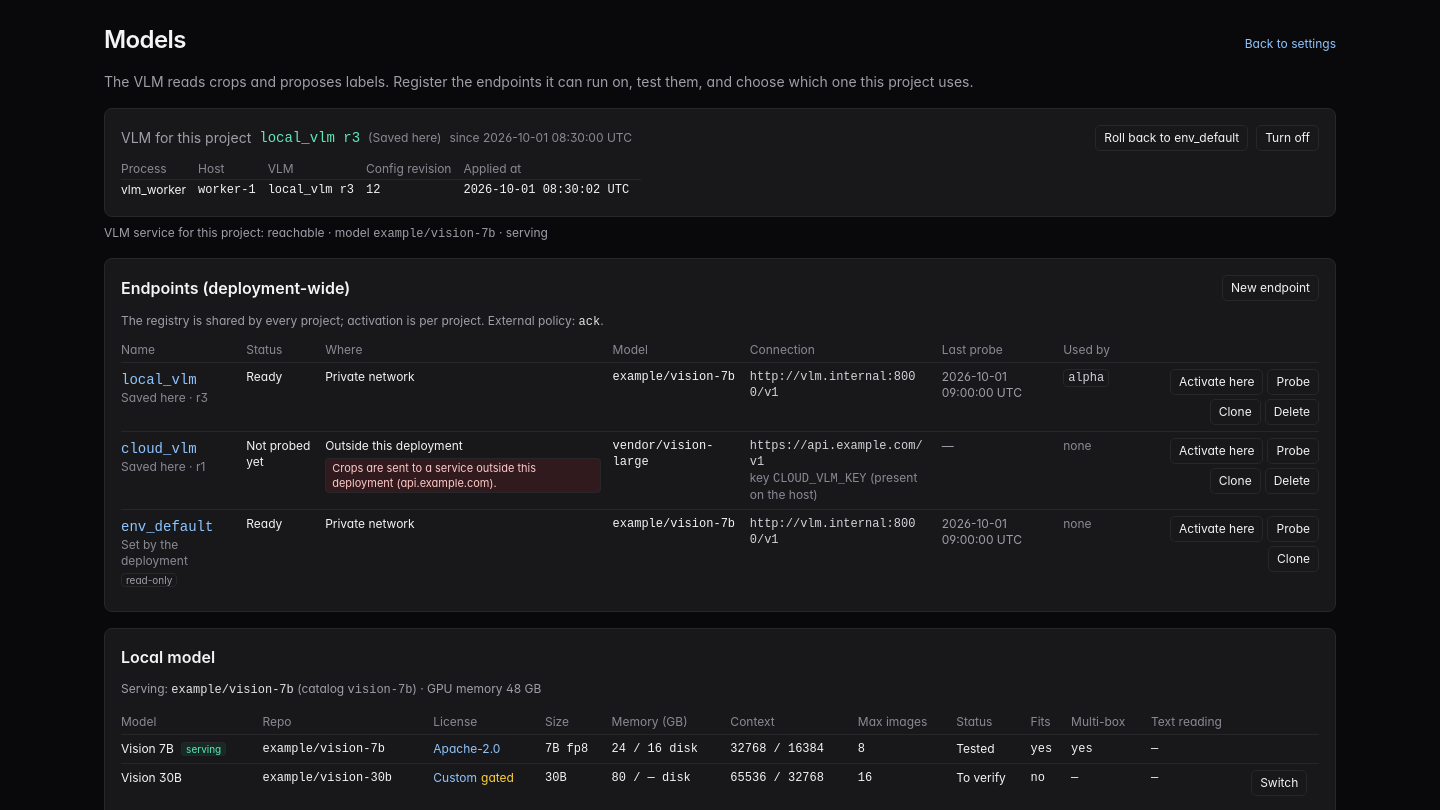
Test: /settings/models › Delete shows the served in_use message and project slugs
Click the button with test id "vlm-delete" in the row of "Saved here · r3".
click(1292, 412)  # box [1265,399,1319,425]
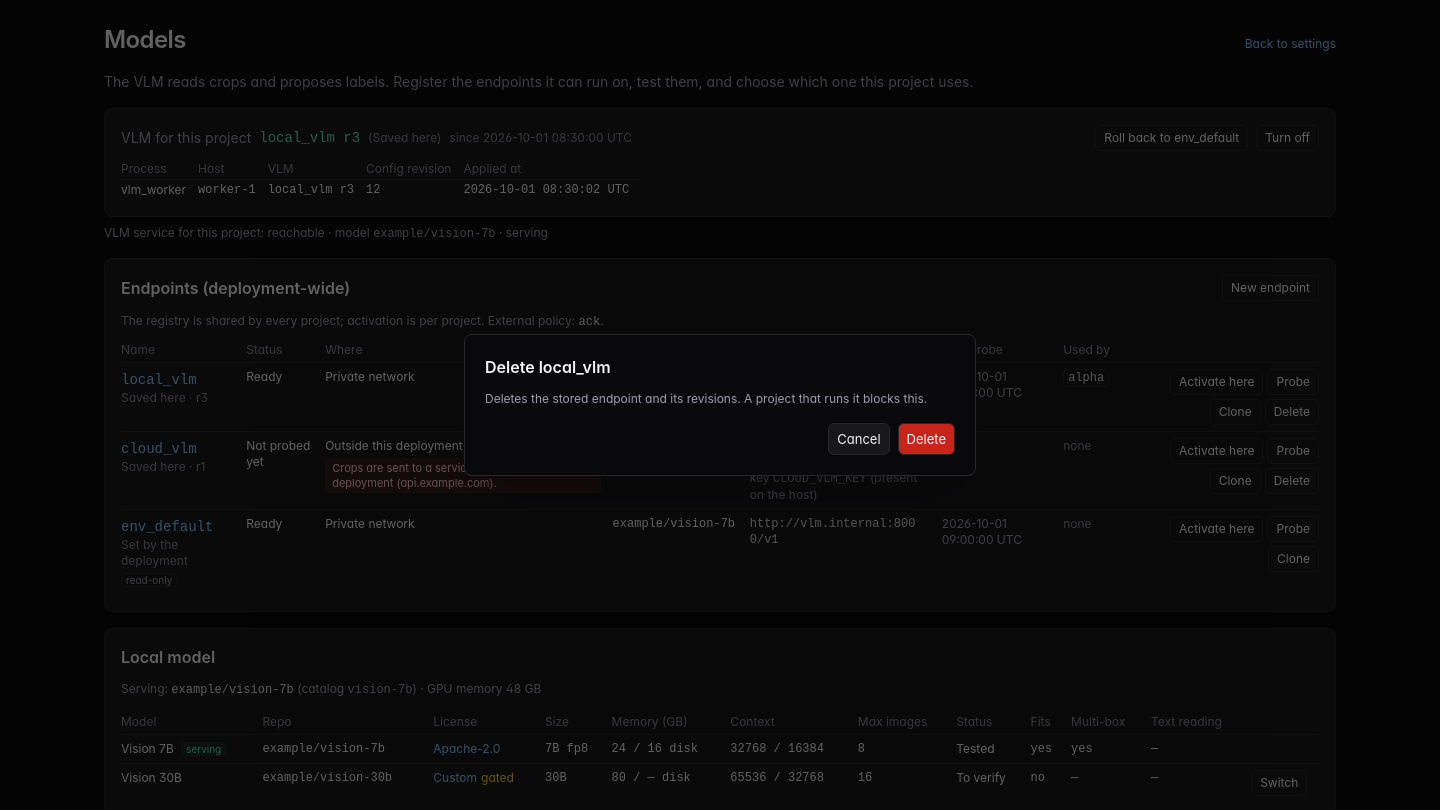
Click the button "Delete".
click(926, 439)  # box [898,423,955,455]
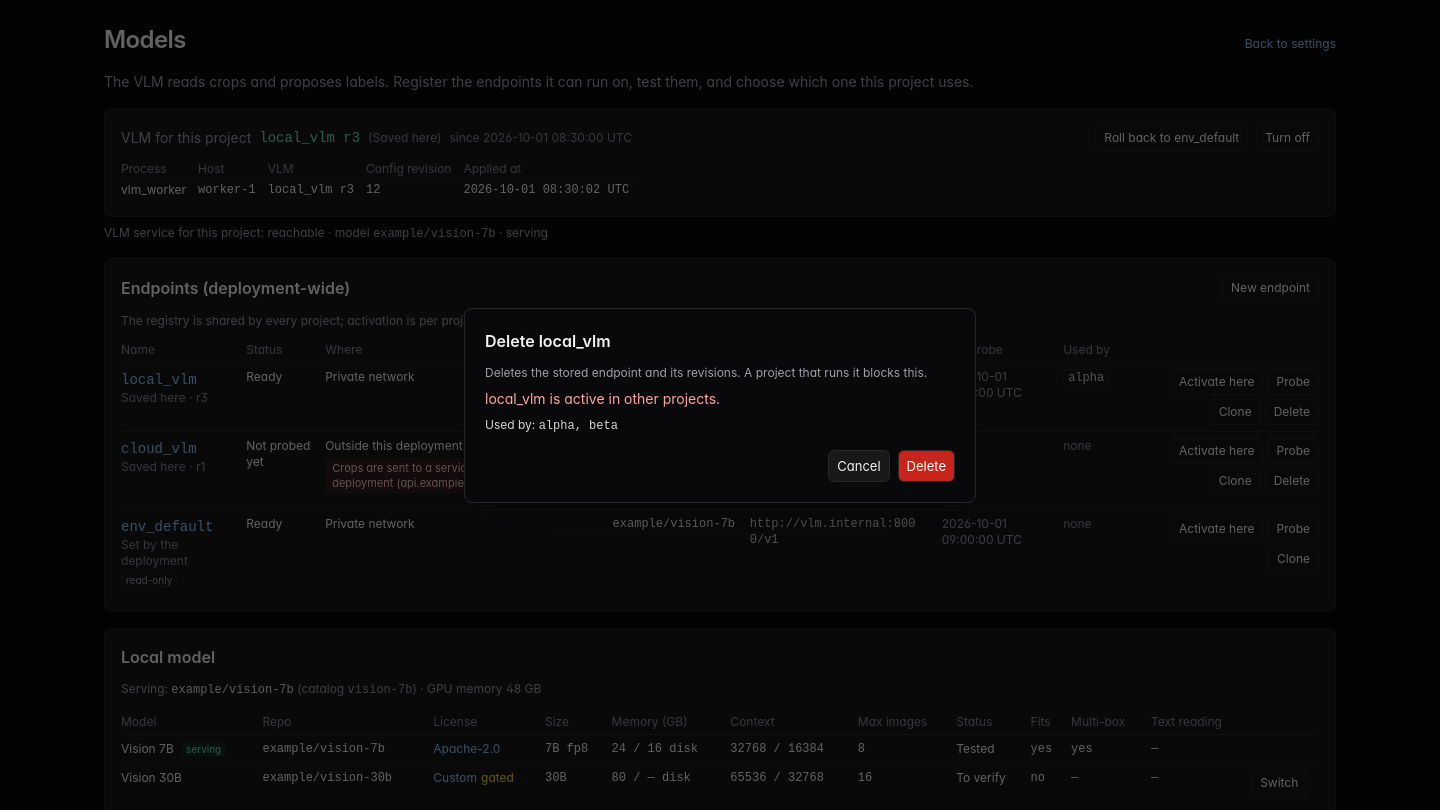
Expected: the text "local_vlm is active in other projects." is shown, [485,390,720,406]
